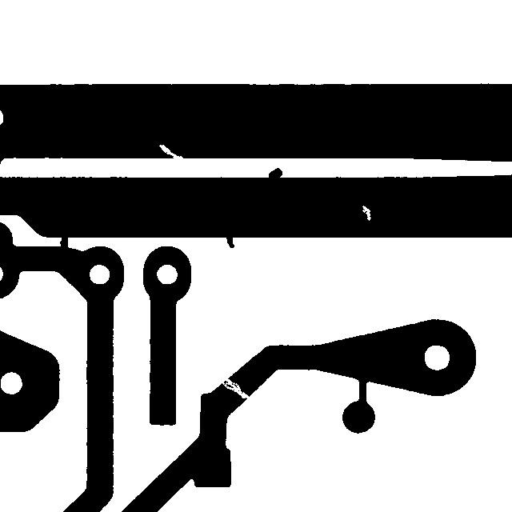mousebite: (151, 137, 190, 167)
open: (214, 370, 256, 406)
pin-hole: (354, 198, 378, 228)
short: (52, 224, 75, 258)
spur: (261, 160, 290, 189), (217, 223, 242, 255)
